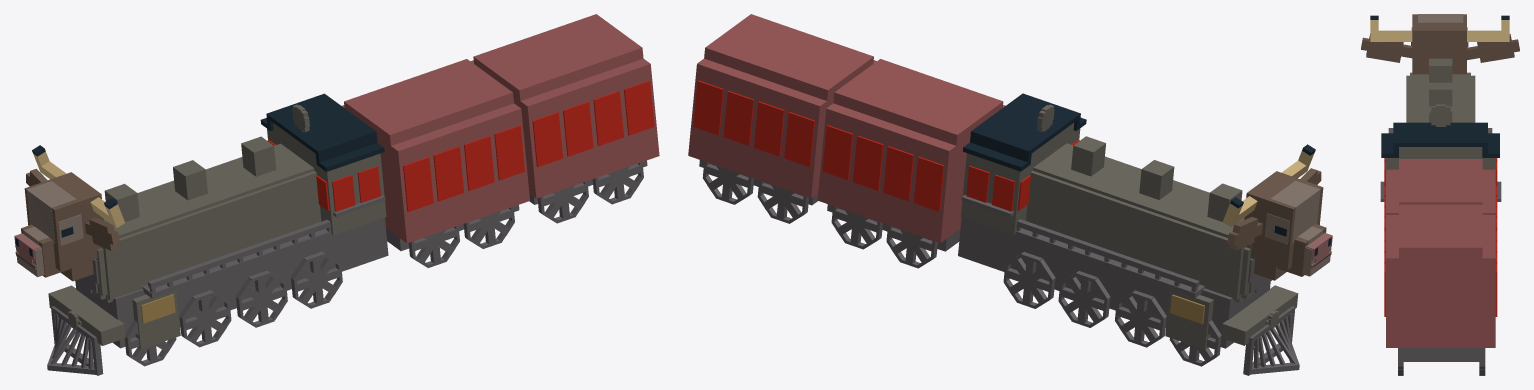
The model's file is Lokomomu_Milkuma.fbx.
The picture shows the model from 3 angles, left to right: view 1: azimuth 30°, elevation 25°; view 2: azimuth 150°, elevation 25°; view 3: azimuth 270°, elevation 25°; orthographic projection. The views are drawn at different scales.
Visible parts, largest first — view 1: Lokomomu_Milkuma; view 2: Lokomomu_Milkuma; view 3: Lokomomu_Milkuma.
Boxes of the visible parts, x1=… form: Lokomomu_Milkuma: x1=14, y1=14, x2=659, y2=375; Lokomomu_Milkuma: x1=688, y1=14, x2=1332, y2=375; Lokomomu_Milkuma: x1=1361, y1=14, x2=1519, y2=375.
Bounding box in the file's own units: 2773 × 880 × 692.
